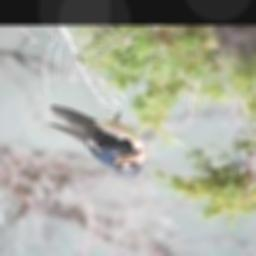Swallow: (47, 107, 146, 178)
